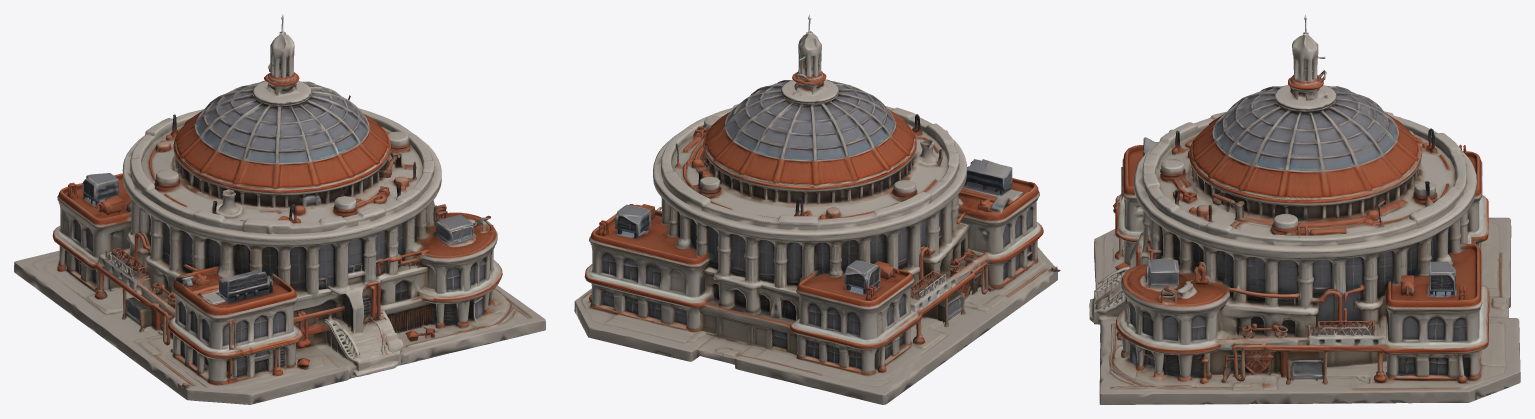
Rendered from misanthropic-hq-web-v1.glb.
The picture shows the model from 3 angles, left to right: view 1: azimuth 30°, elevation 25°; view 2: azimuth 150°, elevation 25°; view 3: azimuth 270°, elevation 25°; orthographic projection. The views are drawn at different scales.
Visible parts, largest first — view 1: tripo_node_a9254eb4-13ee-4669-89d9-3ca7af6fc830; view 2: tripo_node_a9254eb4-13ee-4669-89d9-3ca7af6fc830; view 3: tripo_node_a9254eb4-13ee-4669-89d9-3ca7af6fc830.
Boxes of the visible parts, x1,y1,x2,y2 form: tripo_node_a9254eb4-13ee-4669-89d9-3ca7af6fc830: (14,14,545,404); tripo_node_a9254eb4-13ee-4669-89d9-3ca7af6fc830: (574,14,1060,404); tripo_node_a9254eb4-13ee-4669-89d9-3ca7af6fc830: (1089,14,1520,404).
Bounding box in the file's own units: 0.9665 × 0.7645 × 0.9803.
Materials: 1 (1 with a texture image).
